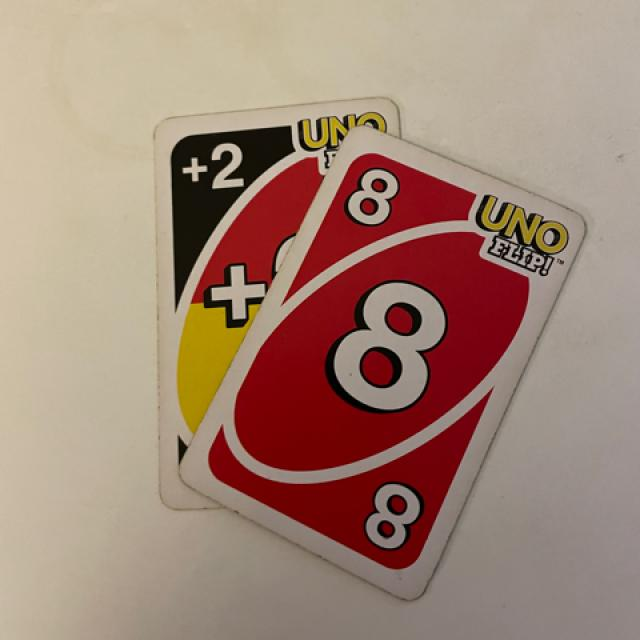lred-8: (340, 160, 405, 240)
